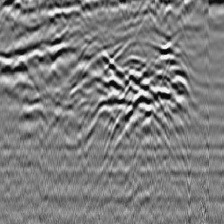cavities: (91, 46, 194, 139)
